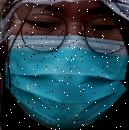with_mask: (2, 2, 129, 130)
